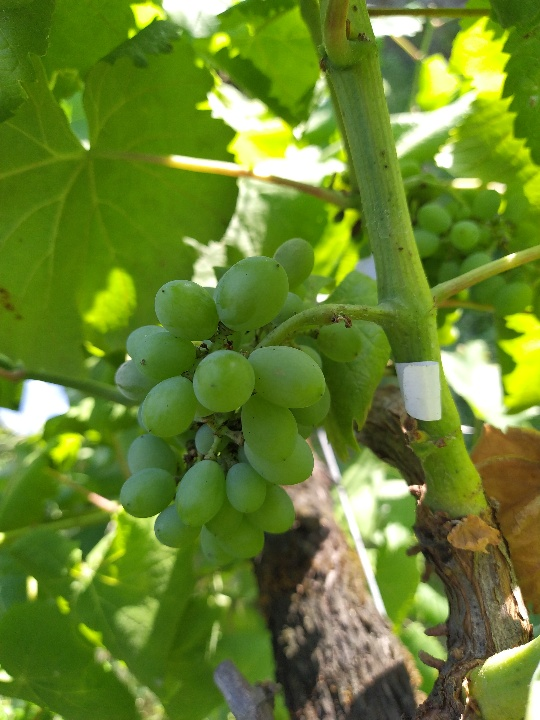grape: (110, 237, 367, 573)
